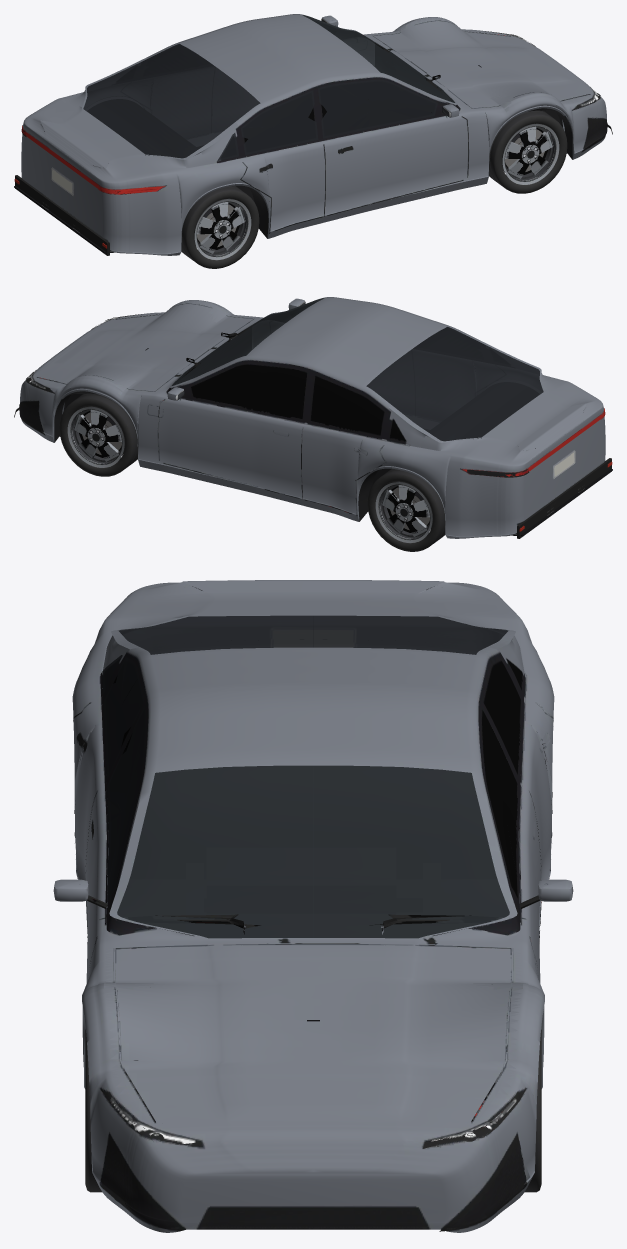
The model's file is ev_baked.glb.
The picture shows the model from 3 angles, top to bottom: view 1: azimuth 30°, elevation 25°; view 2: azimuth 150°, elevation 25°; view 3: azimuth 270°, elevation 25°; orthographic projection. The views are drawn at different scales.
Parts seen in each view (by area): view 1: body, hood, wheel_fr, wheel_rr, bay, lamp_tail; view 2: body, hood, wheel_fl, wheel_rl, bay, lamp_tail; view 3: body, hood, wheel_fl, wheel_fr.
Boxes of the visible parts, box(x1,y1,x2,y2) form: body: box(14, 14, 612, 255); hood: box(373, 20, 596, 108); wheel_fr: box(489, 110, 567, 193); wheel_rr: box(181, 186, 259, 268); bay: box(375, 44, 567, 153); lamp_tail: box(14, 125, 165, 248); body: box(14, 297, 612, 538); hood: box(31, 303, 253, 391); wheel_fl: box(59, 393, 137, 476); wheel_rl: box(367, 469, 445, 551); bay: box(59, 327, 251, 436); lamp_tail: box(461, 408, 612, 531); body: box(53, 580, 573, 1232); hood: box(113, 930, 513, 1135); wheel_fl: box(525, 1029, 541, 1192); wheel_fr: box(85, 1029, 101, 1192).
Bounding box in the file's own units: 5.04 × 1.41 × 2.19.
Materials: 15 (5 with a texture image).
